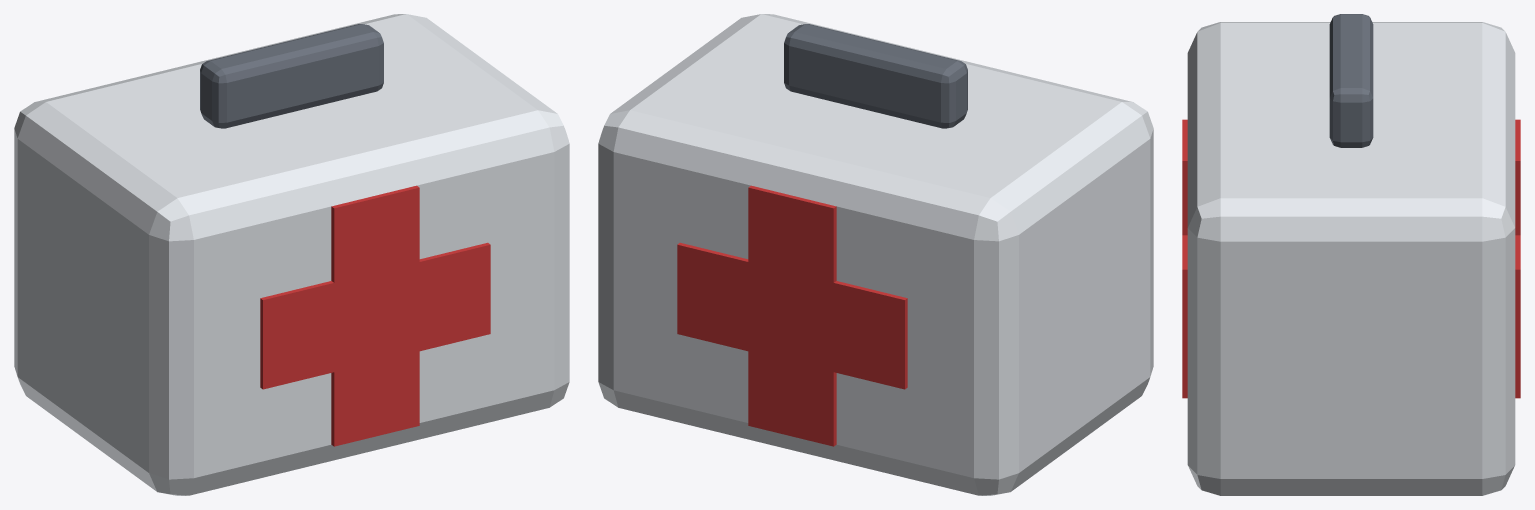
Rendered from item_health.glb.
3 views of the same model, side by side, from view 1: azimuth 30°, elevation 25°; view 2: azimuth 150°, elevation 25°; view 3: azimuth 270°, elevation 25° (orthographic).
Parts seen in each view (by area): view 1: Case, Cross_H, Cross_V, Handle; view 2: Case, Cross_H, Cross_V, Handle; view 3: Case, Handle, Cross_V, Cross_H.
Part boxes in pixels (box(x1,y1,x2,y2)): Case: box(14, 14, 569, 495); Cross_H: box(260, 242, 490, 389); Cross_V: box(331, 185, 419, 446); Handle: box(200, 24, 383, 128); Case: box(598, 14, 1153, 495); Cross_H: box(677, 242, 907, 389); Cross_V: box(748, 185, 836, 446); Handle: box(784, 24, 967, 128); Case: box(1187, 22, 1515, 495); Handle: box(1329, 14, 1373, 147); Cross_V: box(1182, 119, 1520, 398); Cross_H: box(1182, 235, 1520, 358).
Size of what is drawn, in the model's own units: 0.44 by 0.36 by 0.31.
